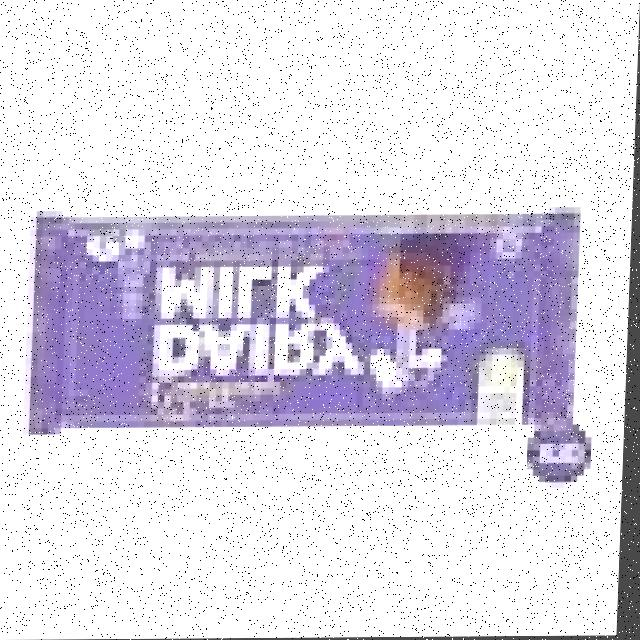cadbury: (34, 211, 581, 428)
